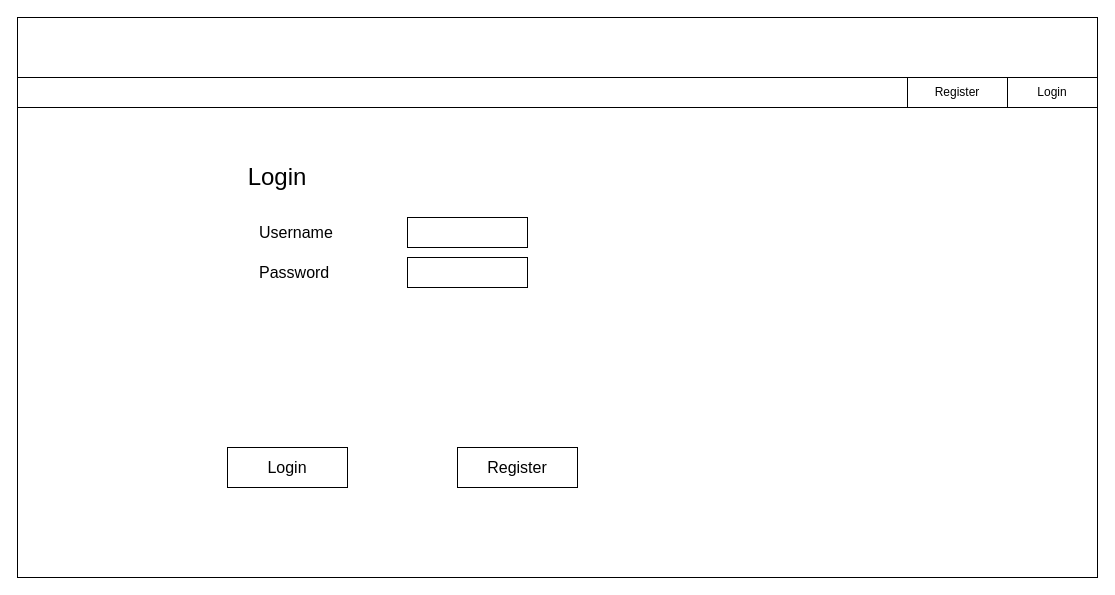
The diagram is 1115 pixels wide and 595 high, and some of its shapes have lost their labels. Each missing label, with the box of its shape:
Banner: (16, 16, 1098, 78)
Navbar: (16, 76, 1098, 108)
